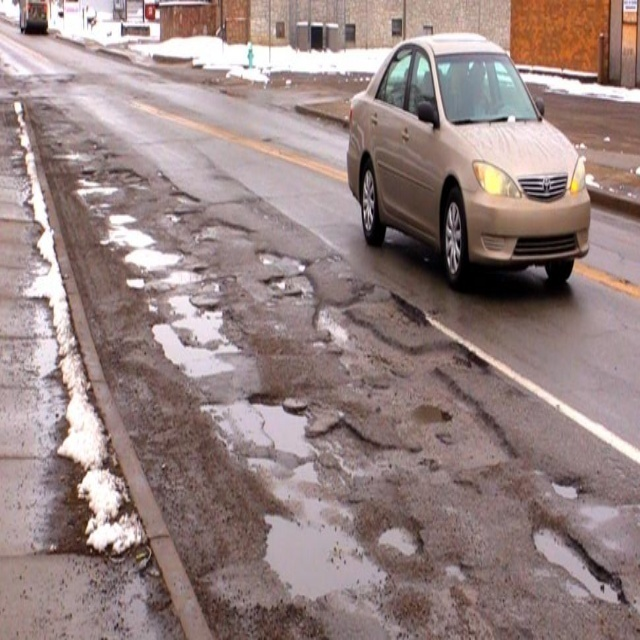pothole: (75, 163, 327, 604), (519, 481, 632, 640), (411, 378, 488, 478), (340, 399, 408, 474), (354, 284, 422, 357), (374, 494, 433, 575)
